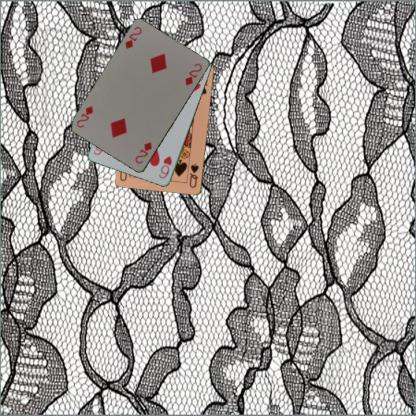2d: (122, 24, 144, 50), (132, 140, 153, 165)
6h: (156, 153, 173, 180)
Qs: (187, 161, 200, 189)
